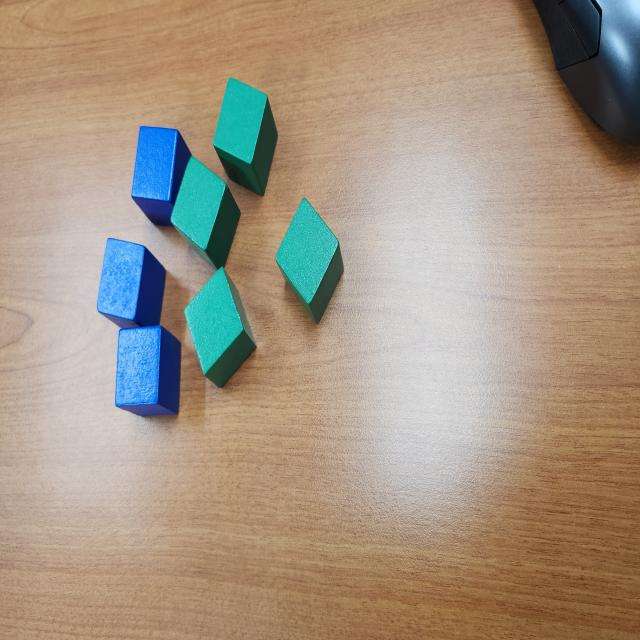blue: (96, 237, 166, 329), (113, 326, 182, 418), (132, 126, 192, 228)
green: (184, 267, 256, 388), (275, 197, 343, 324), (169, 156, 241, 272), (212, 77, 278, 196)
